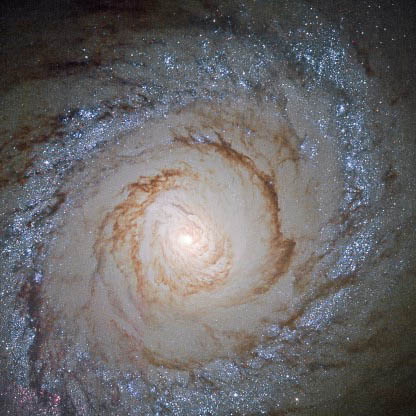Messier 94: (5, 7, 410, 409)
